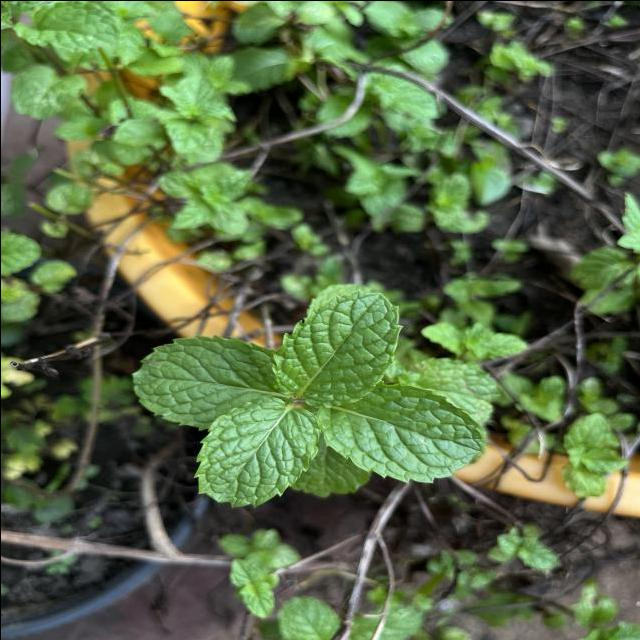Mentha spicata: (315, 378, 484, 483), (270, 287, 404, 408), (192, 394, 322, 508), (128, 332, 278, 430)
